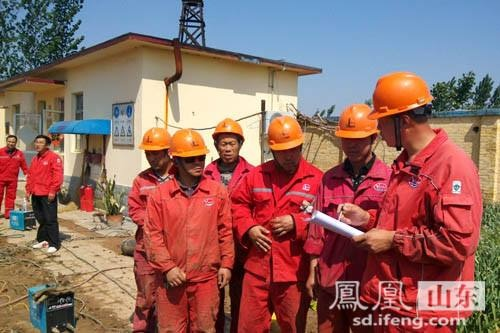none: (33, 134, 49, 154), (5, 133, 17, 150)
yellow: (370, 68, 436, 153), (334, 103, 380, 165), (266, 114, 306, 171), (167, 127, 206, 181), (139, 126, 173, 172), (211, 117, 245, 163)
